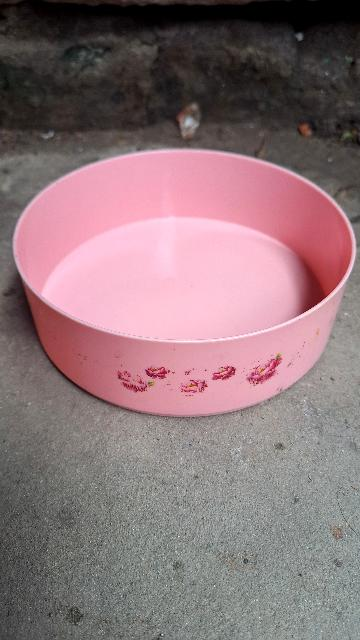hardplastic: (18, 141, 349, 420)
